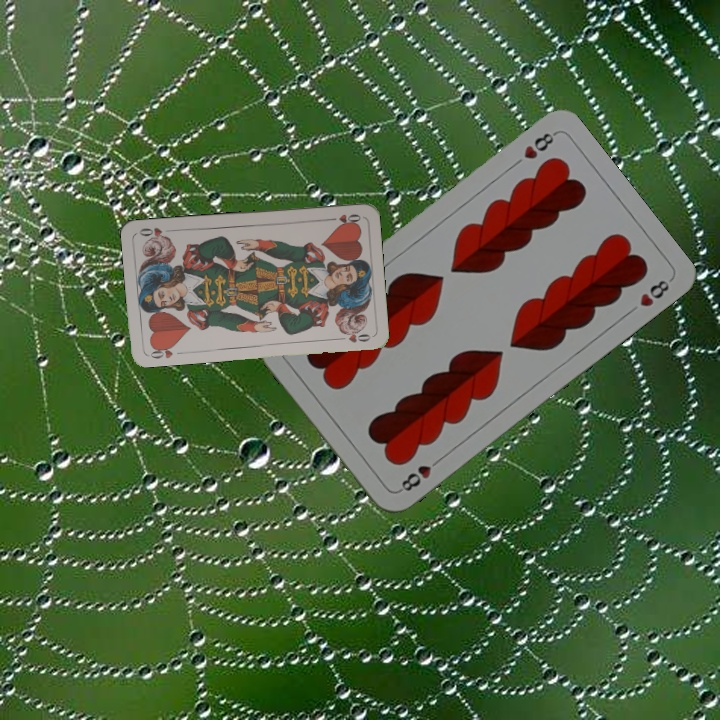H8: (394, 453, 444, 495), (519, 128, 558, 162)
HO: (323, 210, 363, 227), (145, 341, 177, 361)
